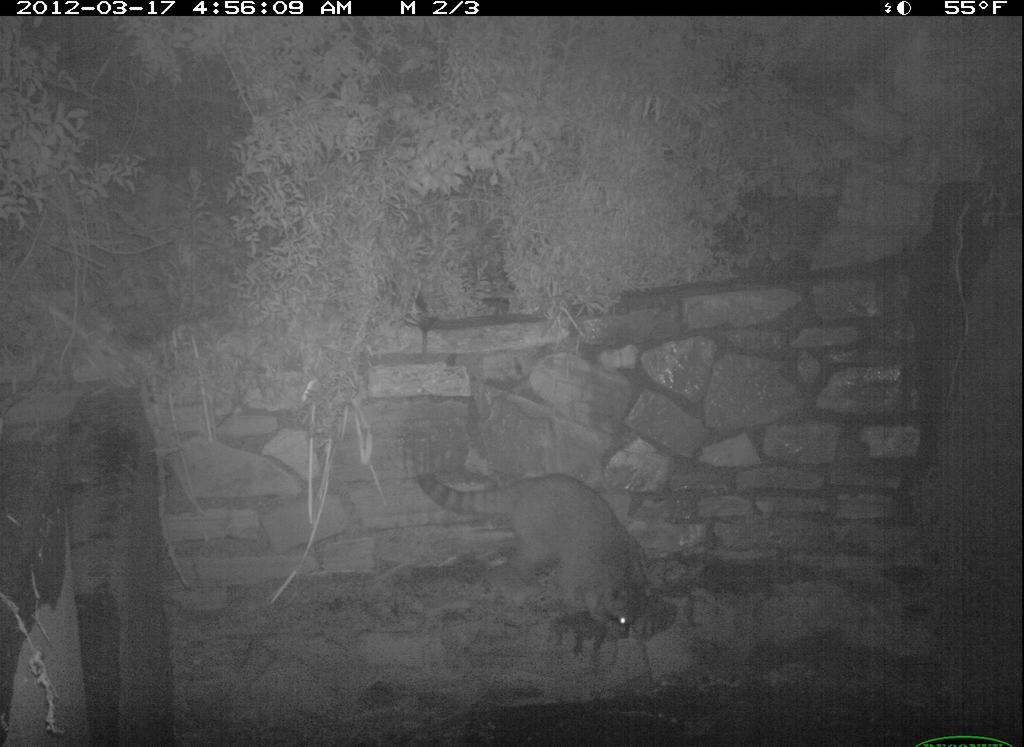raccoon: (385, 415, 680, 660)
